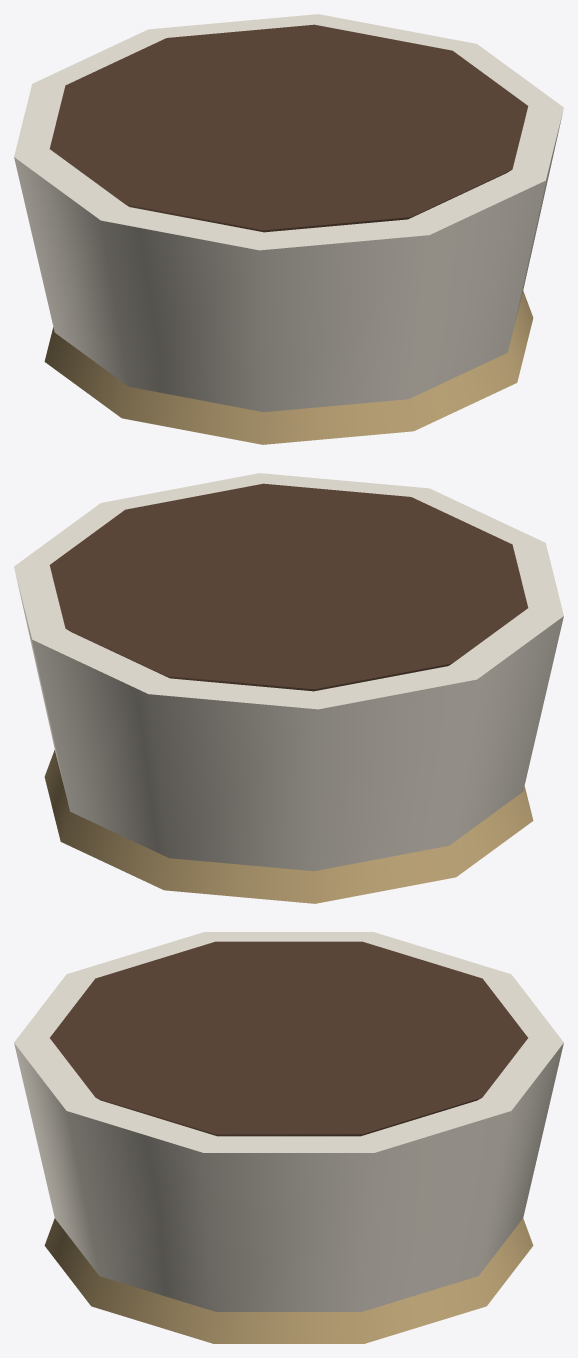
File: SV_MP_SKU_04_v01_lod2.glb
The picture shows the model from 3 angles, top to bottom: view 1: azimuth 30°, elevation 25°; view 2: azimuth 150°, elevation 25°; view 3: azimuth 270°, elevation 25°; orthographic projection. The views are drawn at different scales.
Visible parts, largest first — view 1: mproto_SV_MP_SKU_04_v01; view 2: mproto_SV_MP_SKU_04_v01; view 3: mproto_SV_MP_SKU_04_v01.
Part boxes in pixels (<box>): mproto_SV_MP_SKU_04_v01: <box>14,14,563,444</box>; mproto_SV_MP_SKU_04_v01: <box>14,473,563,903</box>; mproto_SV_MP_SKU_04_v01: <box>14,932,563,1343</box>.
Bounding box in the file's own units: 0.0514 × 0.0225 × 0.054.
